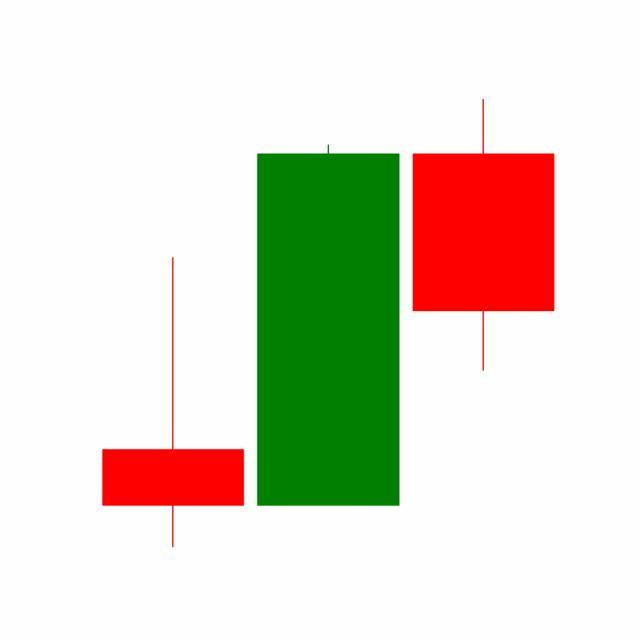Marubozu: (250, 140, 407, 510)
